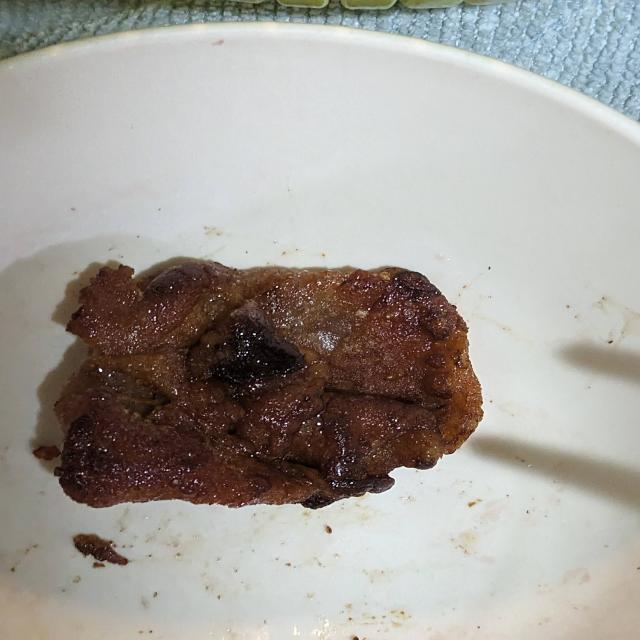overcooked pork: (43, 248, 514, 522)
